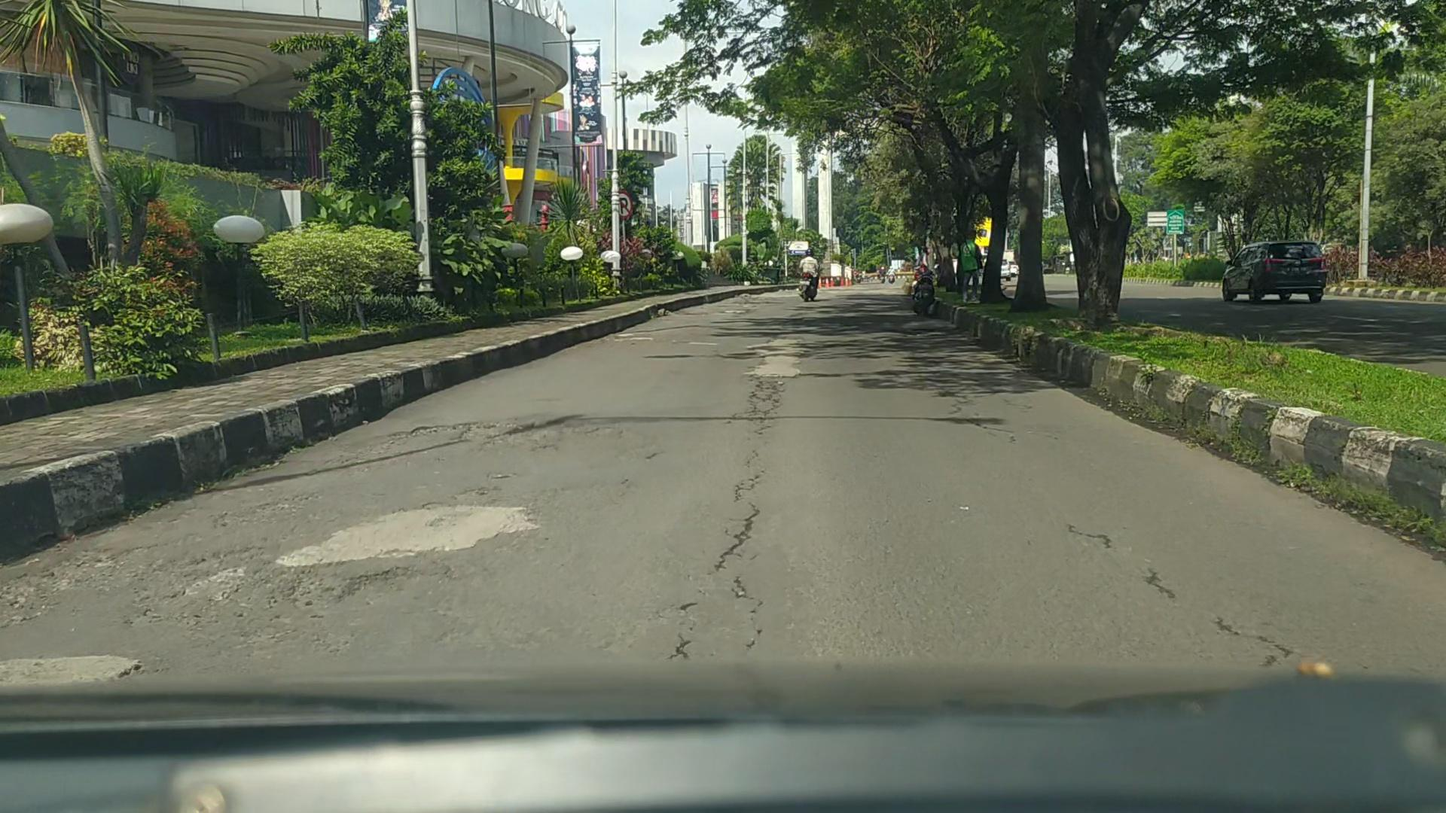pothole: (386, 421, 537, 444)
